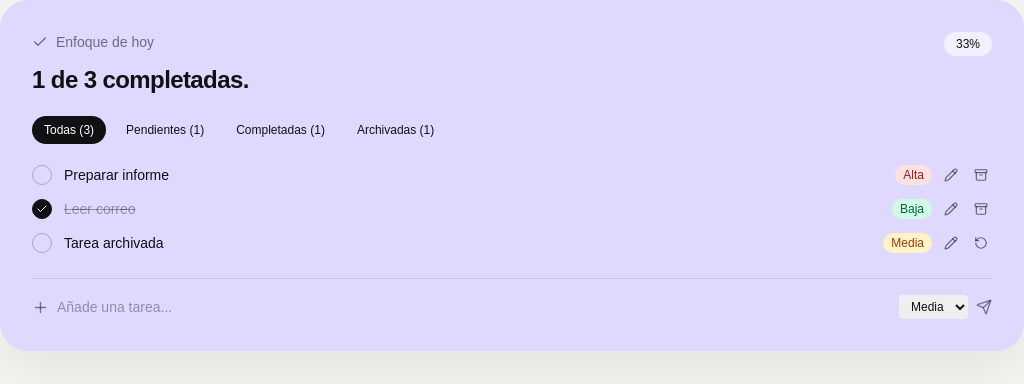
TasksWidget › filters pending tasks
This screenshot has width=1024, height=384.
Click the tab "Pendientes (1)" at (165,130), box [114,116,216,144]
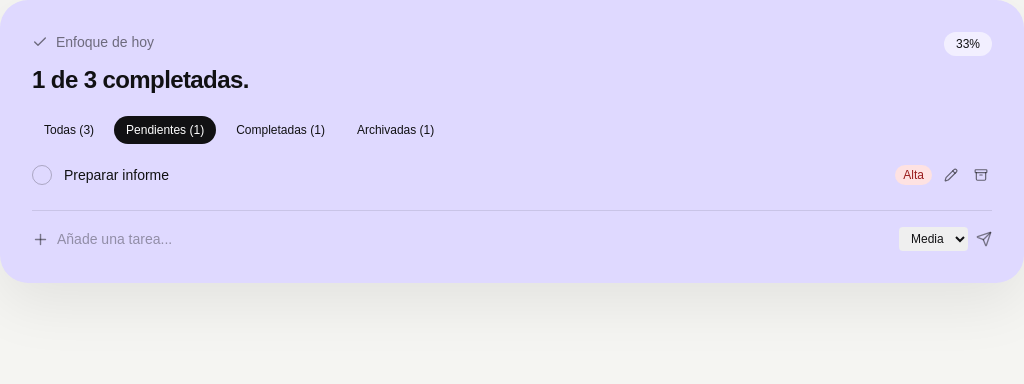
Expected: the text "Preparar informe" is shown, [64,167,169,183]
Now the button "Leer correo" is gone
